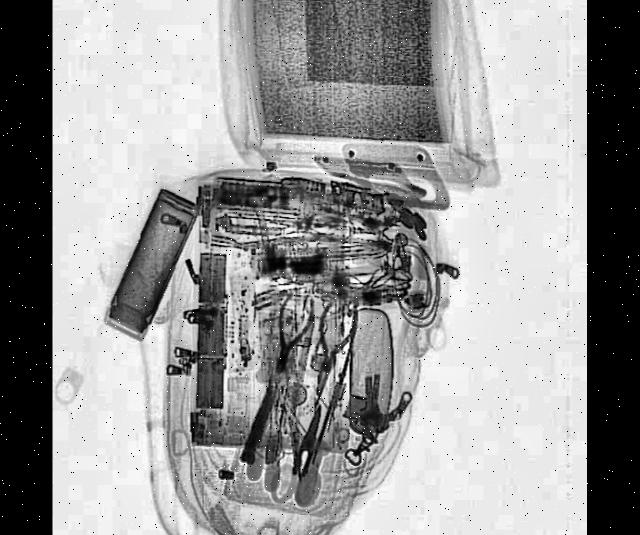Pliers: (304, 293, 362, 398), (262, 285, 320, 382)
